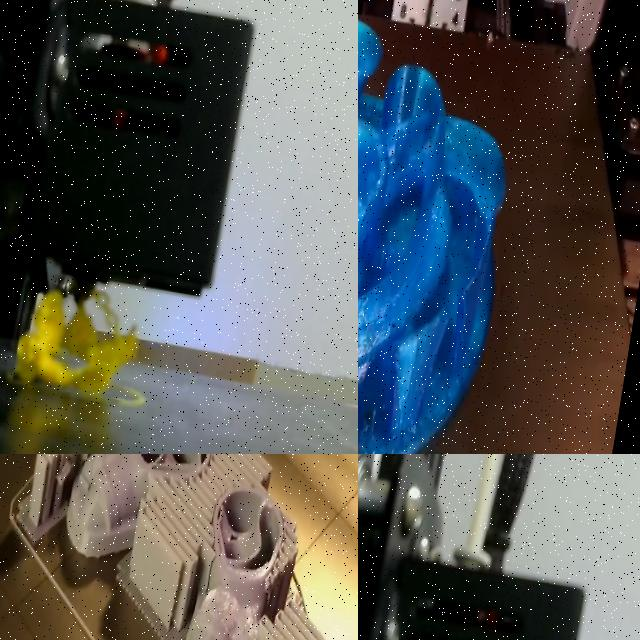spaghetti: (16, 292, 137, 396), (358, 431, 418, 454), (358, 285, 375, 356)
